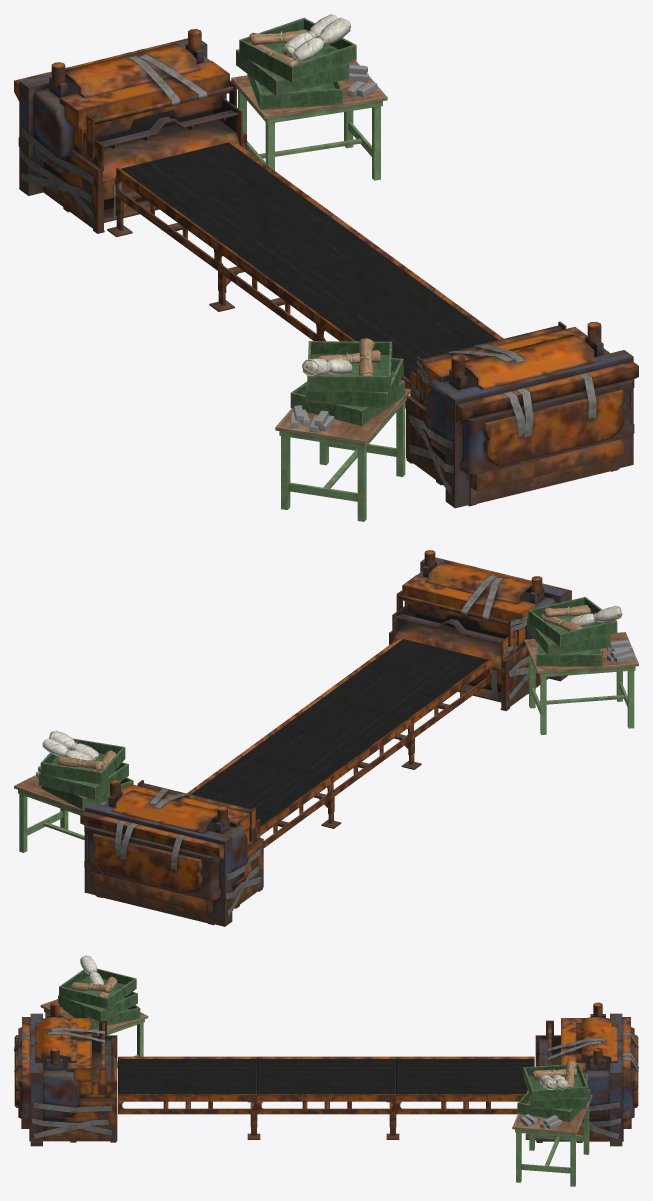
The model's file is SM_WorkBenchModern_e8b2bf.glb.
3 views of the same model, one above another, from view 1: azimuth 30°, elevation 25°; view 2: azimuth 150°, elevation 25°; view 3: azimuth 270°, elevation 25° (orthographic). The views are drawn at different scales.
Bounding box in the file's own units: 5.55 × 1.78 × 10.13.
4 materials, 4 textured.
